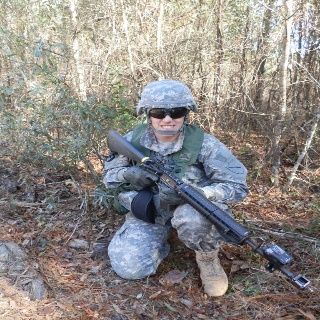rifle: (104, 130, 315, 296)
